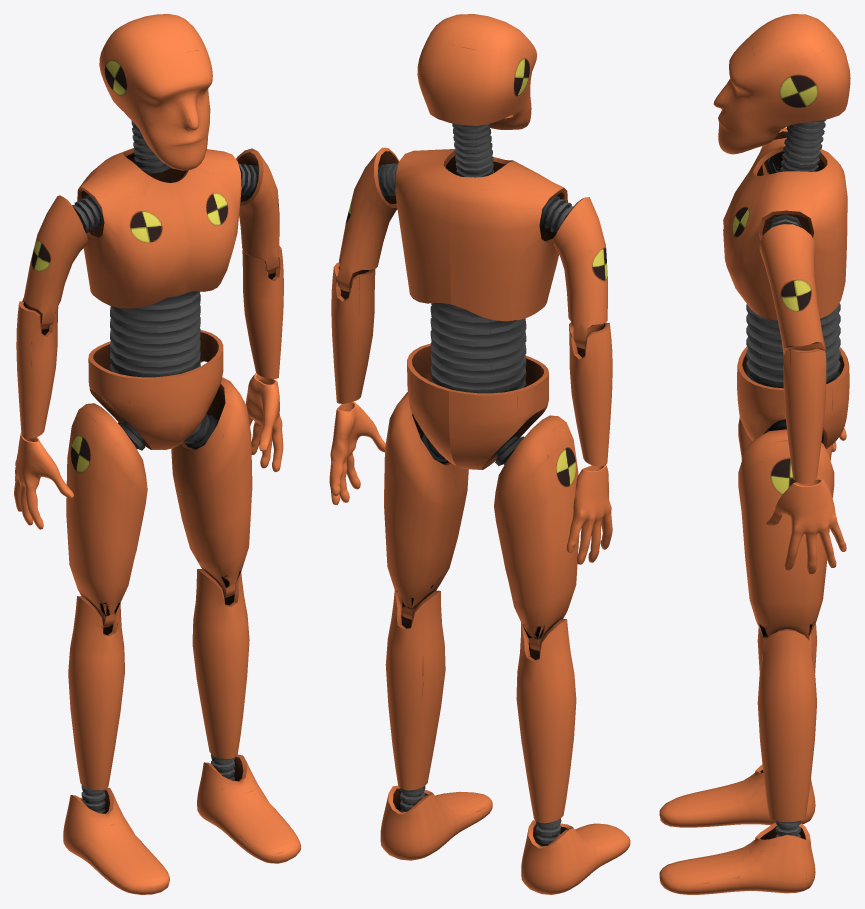
The model's file is dummy.dae.
3 views of the same model, side by side, from view 1: azimuth 30°, elevation 25°; view 2: azimuth 150°, elevation 25°; view 3: azimuth 270°, elevation 25° (orthographic). The views are drawn at different scales.
Visible parts, largest first — view 1: thorax, dummy_head, thigh_r, thigh_l, legshin_r, legshin_l, pelvis, abdomen, foot_r, foot_l, upperarm_r, forearm_r (+4 smaller); view 2: thorax, thigh_r, dummy_head, thigh_l, legshin_r, legshin_l, pelvis, abdomen, upperarm_r, foot_l, foot_r, upperarm_l (+4 smaller); view 3: dummy_head, thorax, thigh_l, legshin_l, foot_l, upperarm_l, forearm_l, foot_r, pelvis, fingers_l, abdomen, upperarm_r (+1 smaller).
Part boxes in pixels (bbox=[...]): thorax: bbox=[77, 148, 241, 308]; dummy_head: bbox=[99, 14, 212, 173]; thigh_r: bbox=[66, 403, 147, 627]; thigh_l: bbox=[171, 377, 252, 598]; legshin_r: bbox=[68, 596, 124, 813]; legshin_l: bbox=[192, 569, 249, 780]; pelvis: bbox=[88, 330, 223, 449]; abdomen: bbox=[110, 291, 200, 377]; foot_r: bbox=[63, 787, 169, 894]; foot_l: bbox=[197, 754, 300, 863]; upperarm_r: bbox=[22, 195, 104, 329]; forearm_r: bbox=[16, 301, 58, 438]; thorax: bbox=[395, 149, 567, 321]; thigh_r: bbox=[491, 415, 579, 651]; dummy_head: bbox=[417, 14, 536, 177]; thigh_l: bbox=[384, 392, 468, 619]; legshin_r: bbox=[516, 619, 576, 846]; legshin_l: bbox=[385, 590, 445, 812]; pelvis: bbox=[407, 343, 548, 469]; abdomen: bbox=[430, 303, 526, 393]; upperarm_r: bbox=[539, 195, 607, 349]; foot_l: bbox=[380, 785, 492, 860]; foot_r: bbox=[521, 820, 630, 894]; upperarm_l: bbox=[337, 147, 398, 291]; dummy_head: bbox=[713, 14, 850, 171]; thorax: bbox=[723, 137, 847, 320]; thigh_l: bbox=[738, 419, 834, 642]; legshin_l: bbox=[757, 629, 817, 837]; foot_l: bbox=[659, 822, 815, 894]; upperarm_l: bbox=[759, 214, 825, 358]; forearm_l: bbox=[783, 348, 826, 483]; foot_r: bbox=[659, 765, 815, 827]; pelvis: bbox=[737, 346, 849, 449]; fingers_l: bbox=[766, 479, 846, 574]; abdomen: bbox=[746, 303, 840, 388]; upperarm_r: bbox=[760, 127, 787, 175].
Bounding box in the file's own units: 0.5988 × 0.3687 × 1.77.
1 material, 1 textured.
